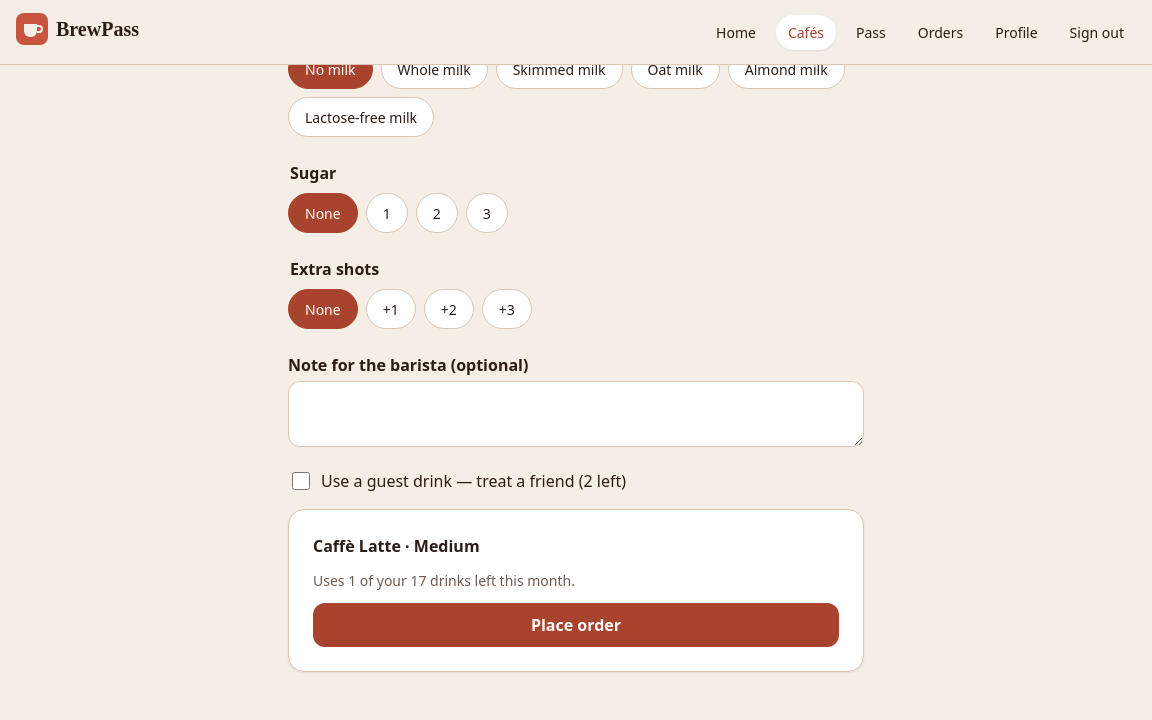
Test: drink builder › shows errors from the API
This screenshot has width=1152, height=720.
(page scrolled)
What coordinates should you click on to do the following:
click the button "Place order"
I would click on:
 (576, 625)
Its box is [313,603,839,647].
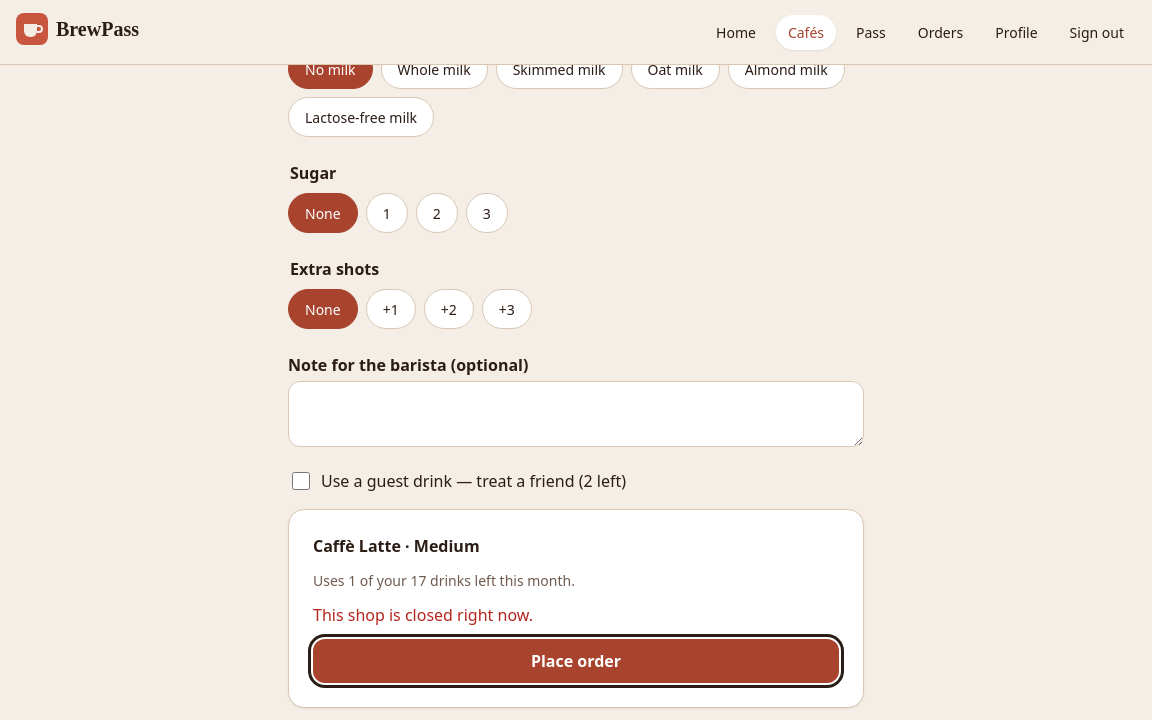
Result: the message reads "This shop is closed right now." at [313,604,533,626]
